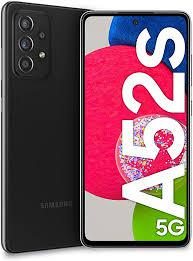Smartphone: (82, 8, 190, 248), (5, 0, 86, 250)
